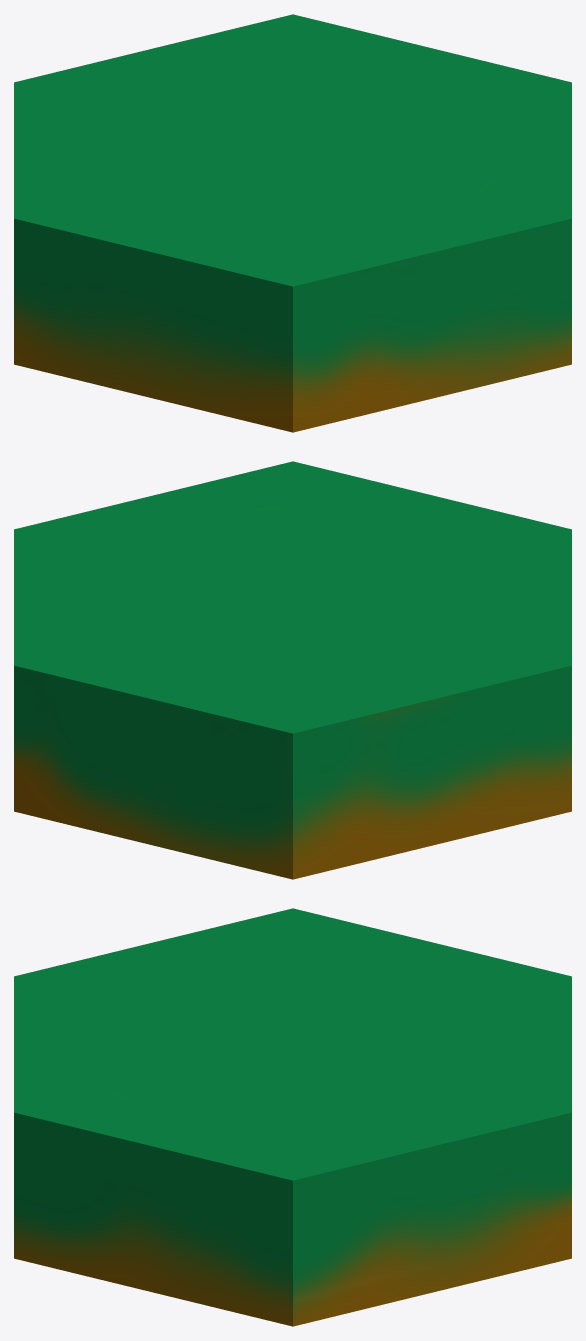
Rendered from tilehex.glb.
3 views of the same model, one above another, from view 1: azimuth 30°, elevation 25°; view 2: azimuth 150°, elevation 25°; view 3: azimuth 270°, elevation 25° (orthographic).
Parts seen in each view (by area): view 1: tile; view 2: tile; view 3: tile.
Part boxes in pixels (x1,y1,x2,y2): tile: [14, 14, 571, 432]; tile: [14, 461, 571, 879]; tile: [14, 908, 571, 1326].
Size of the model in its own units: 0.2 by 0.05 by 0.1732.
1 material, 1 textured.
